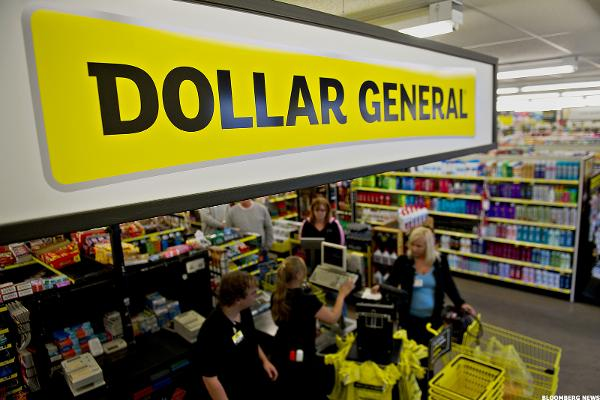Age_20_30: (409, 231, 431, 258), (311, 201, 330, 221)
Age_30_40: (226, 274, 260, 311)
E_White: (226, 274, 260, 311), (409, 231, 431, 258), (311, 201, 330, 221)
Emotion_Neutral: (226, 274, 260, 311), (409, 231, 431, 258), (311, 201, 330, 221)
G_ Female: (409, 231, 431, 258), (311, 201, 330, 221)
G_Male: (226, 274, 260, 311)
Not_Face: (279, 260, 311, 289)
